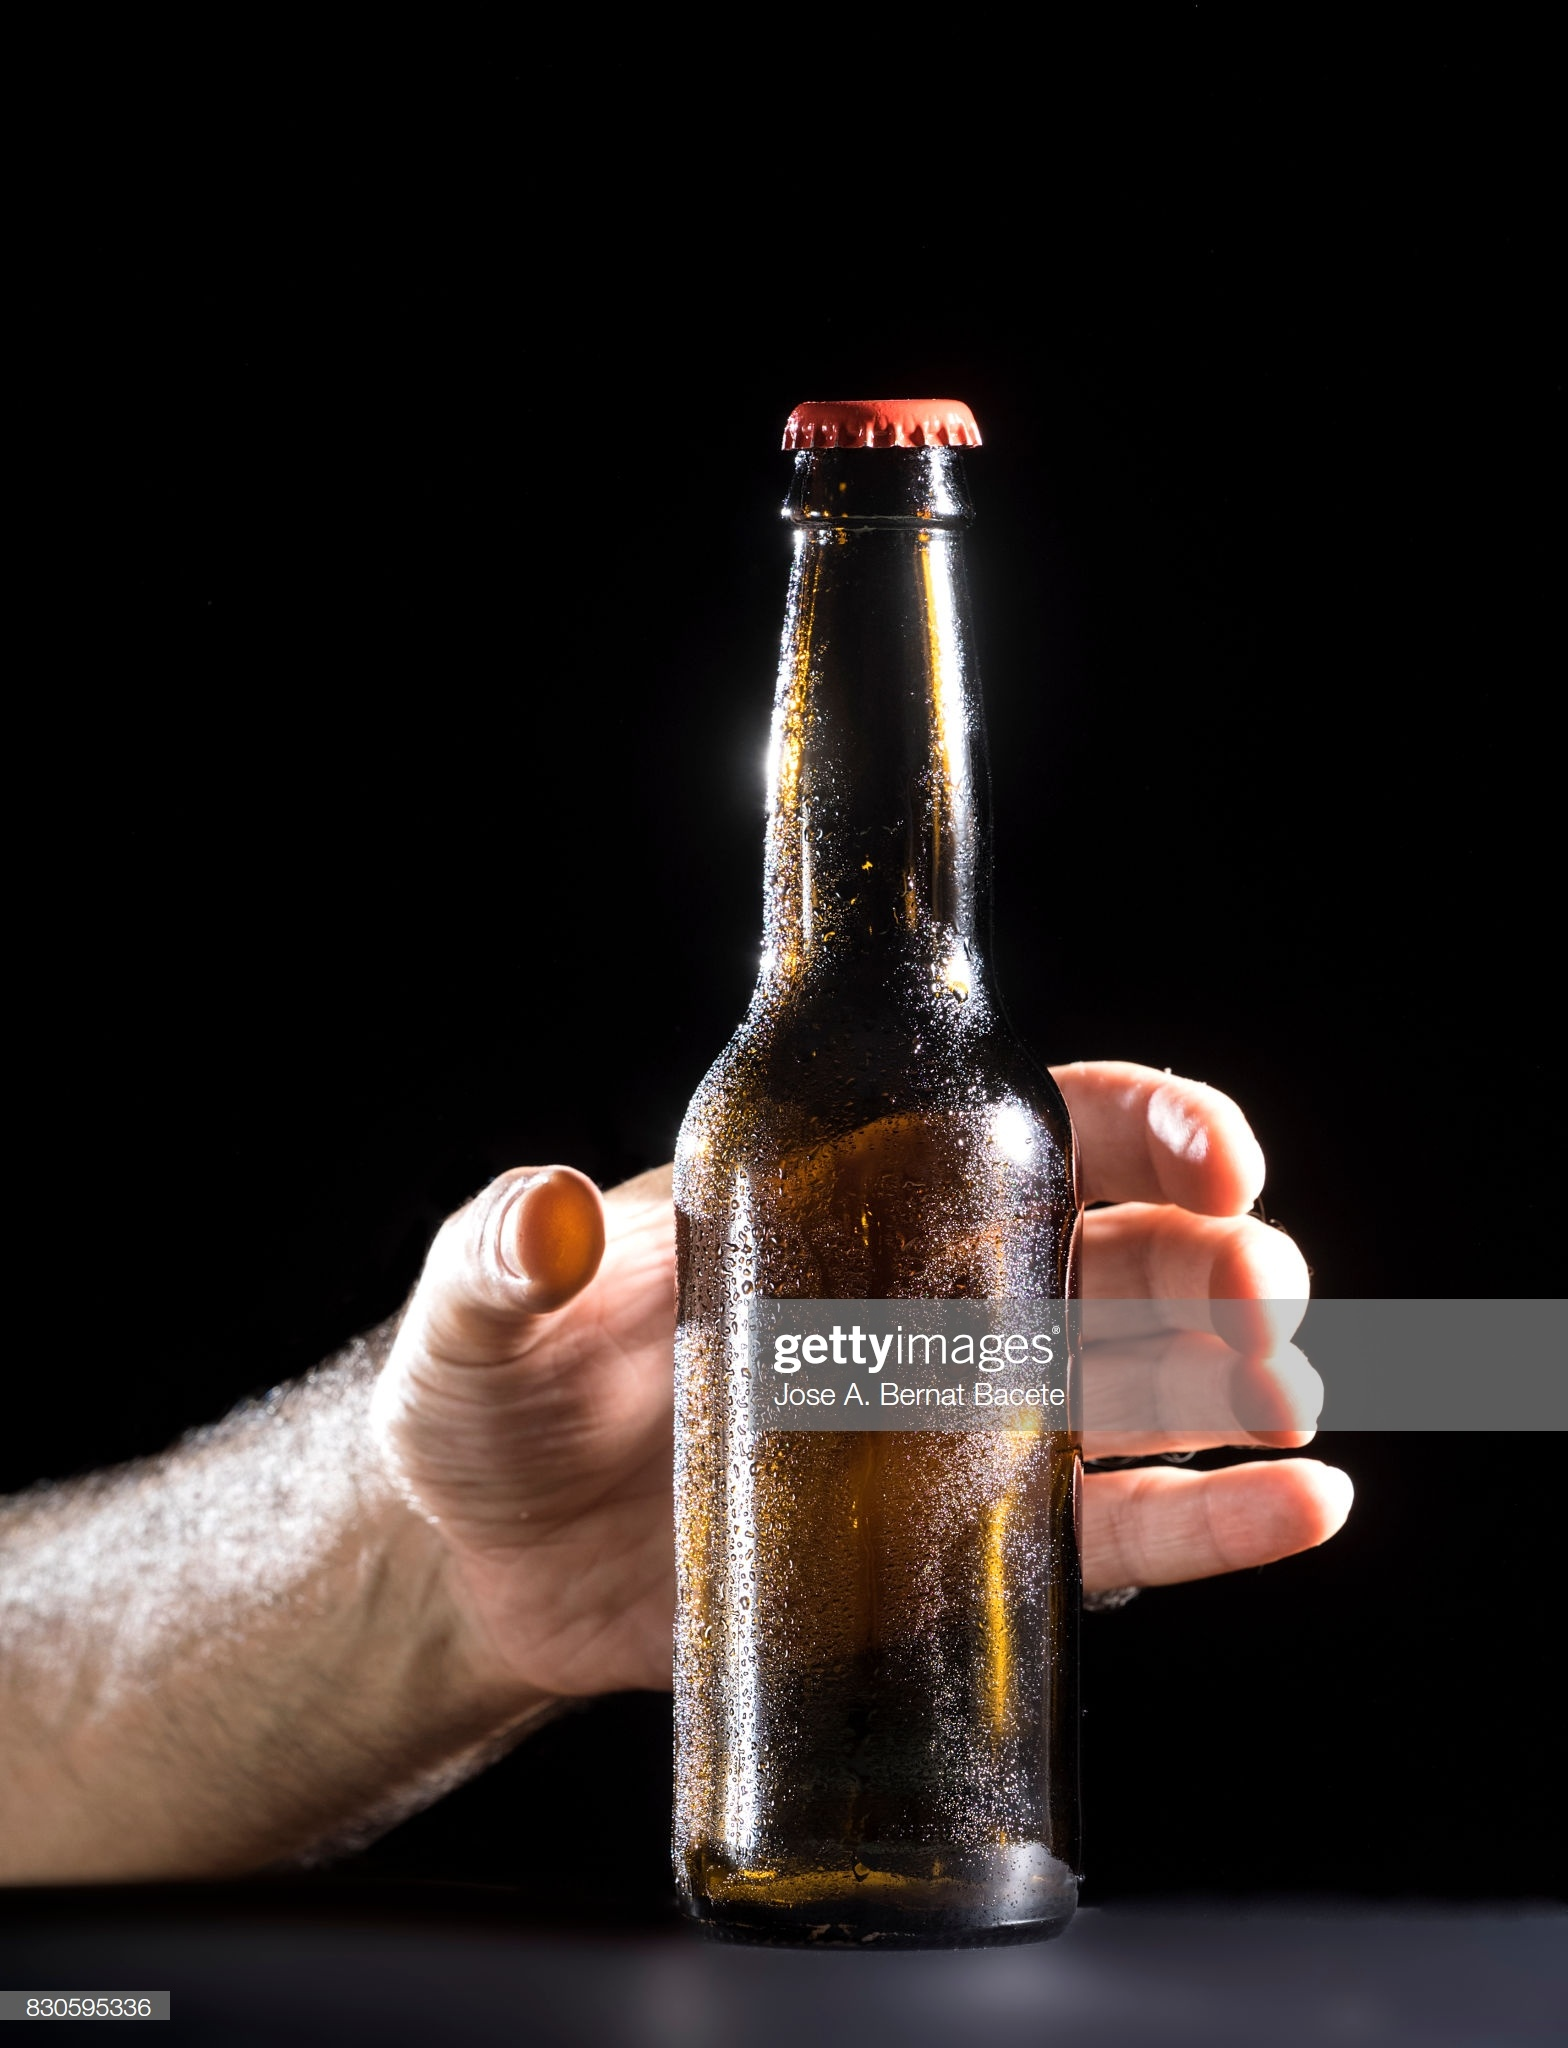beerBottle: (670, 417, 1084, 1943)
